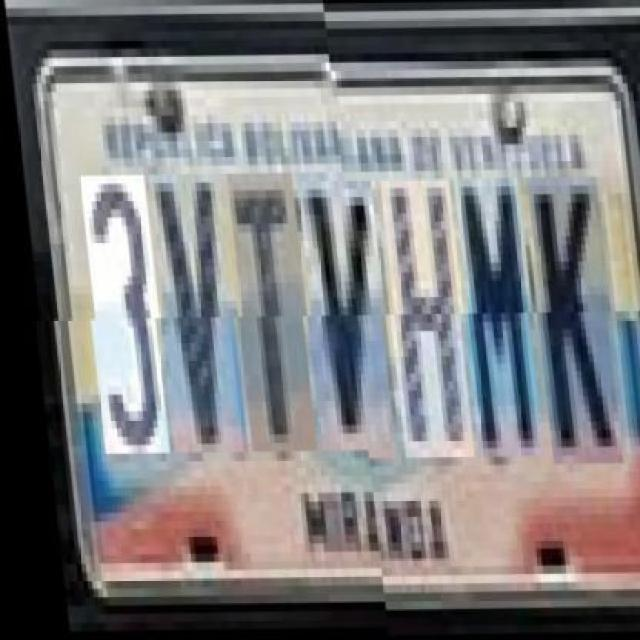3: (76, 183, 166, 463)
h: (376, 179, 469, 459)
k: (522, 179, 616, 466)
m: (449, 178, 538, 458)
t: (223, 182, 312, 460)
v: (145, 183, 244, 462), (292, 182, 391, 460)
